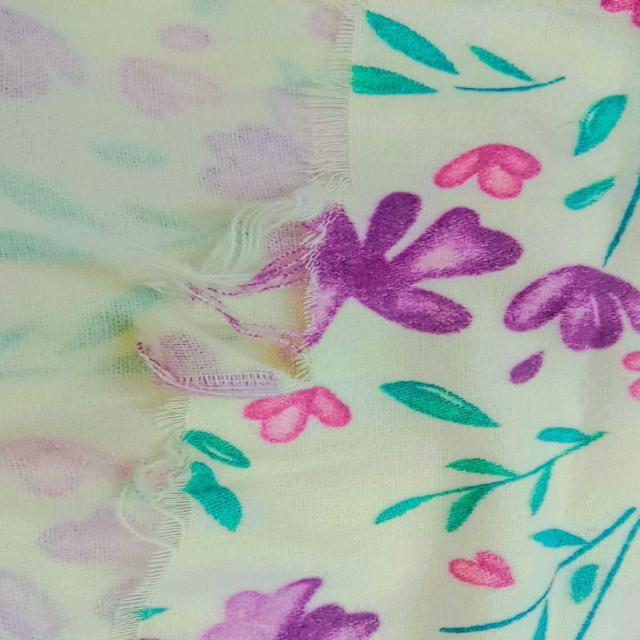cut: (137, 213, 334, 412)
